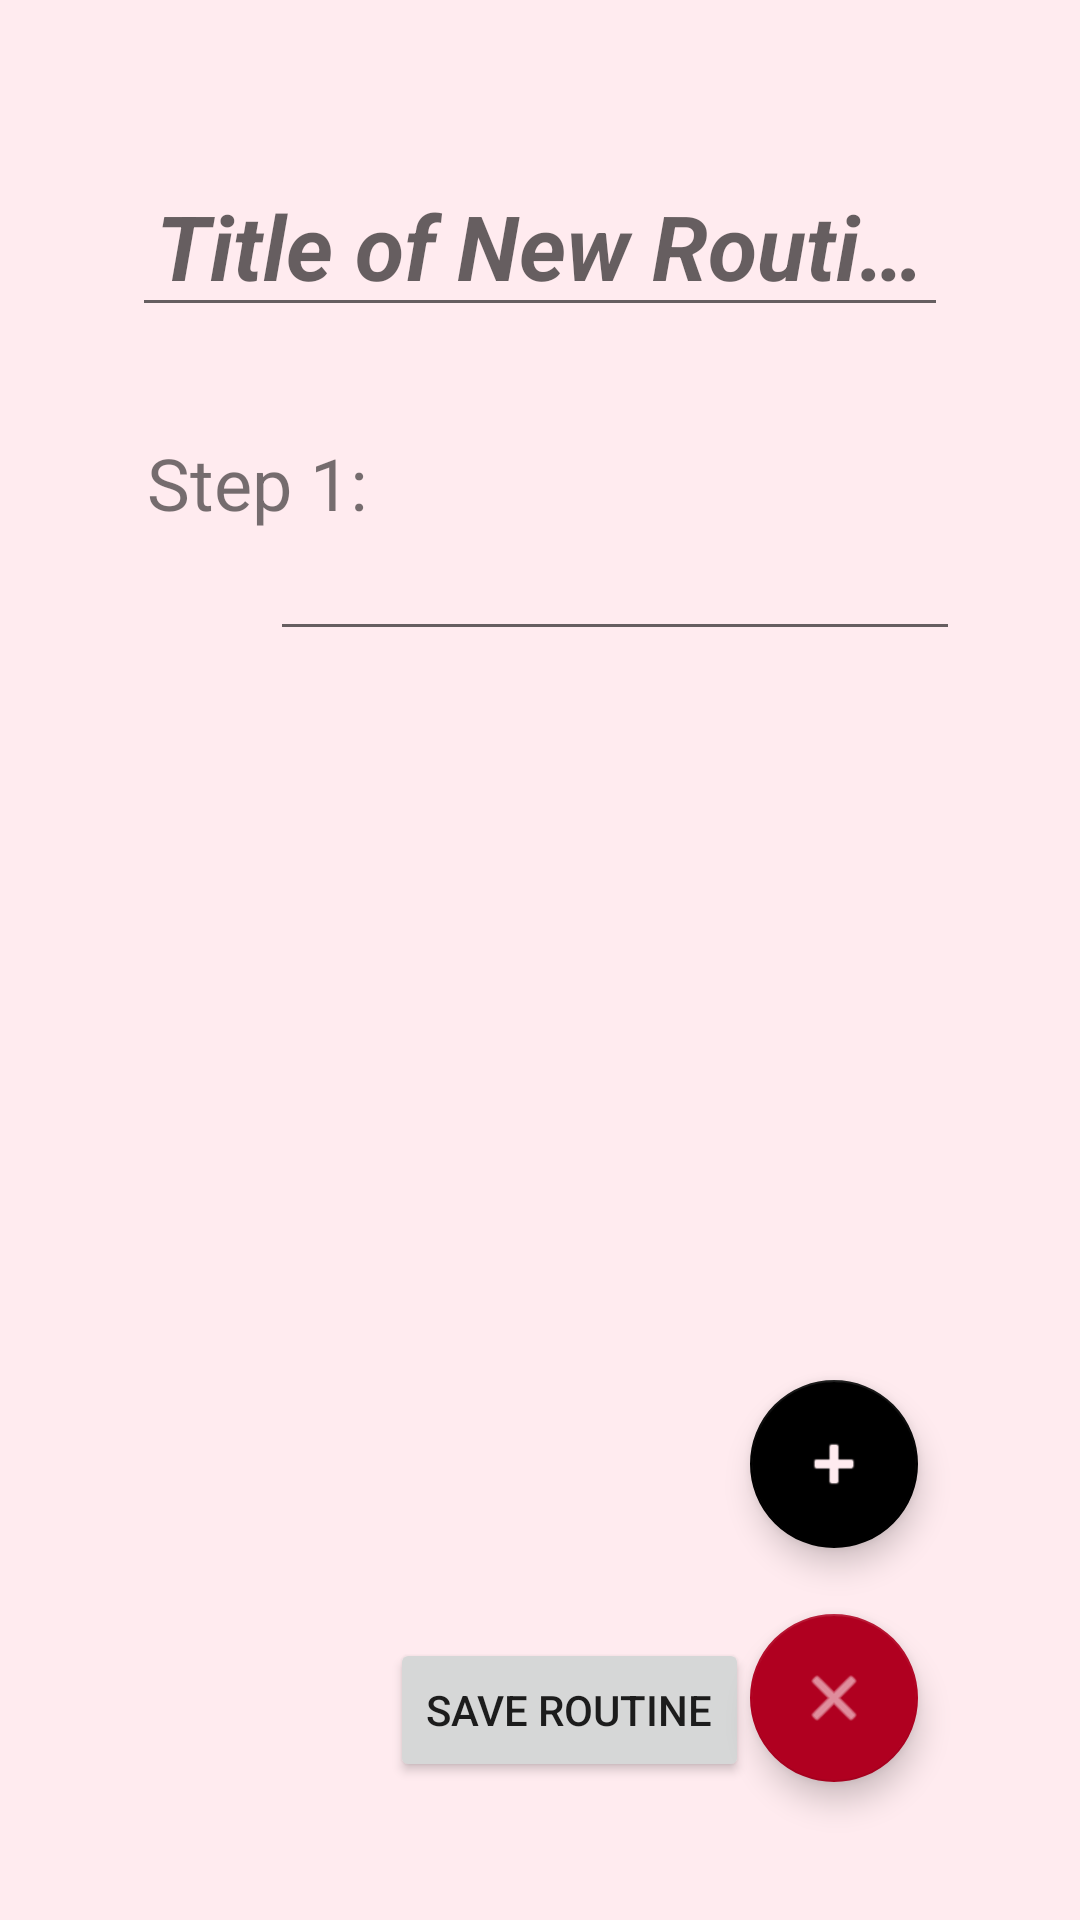

Named icons in this screenshot (1080 × 1920) and their centers, [x,y]:
add: [834,1464]
close clear cancel: [834,1698]
